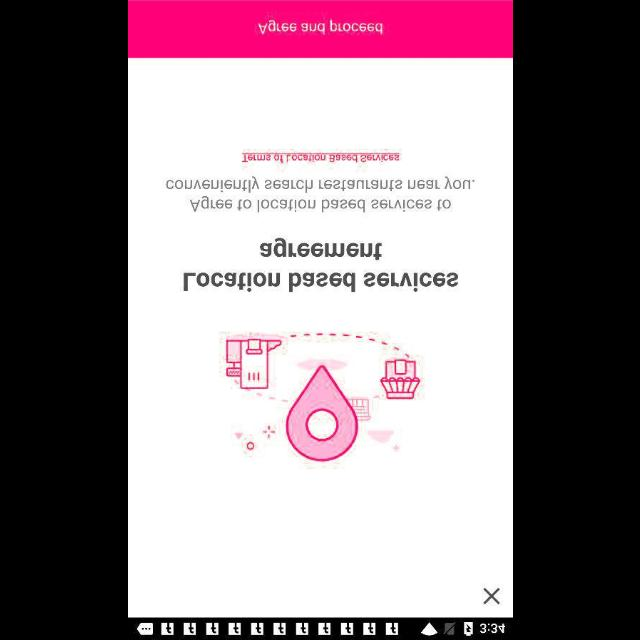icon: (482, 586, 500, 604)
image: (220, 331, 420, 462)
text: (182, 238, 458, 292), (166, 175, 474, 212), (240, 152, 400, 162)
textbutton: (128, 0, 512, 58)
uppertaskbar: (128, 617, 512, 639)
